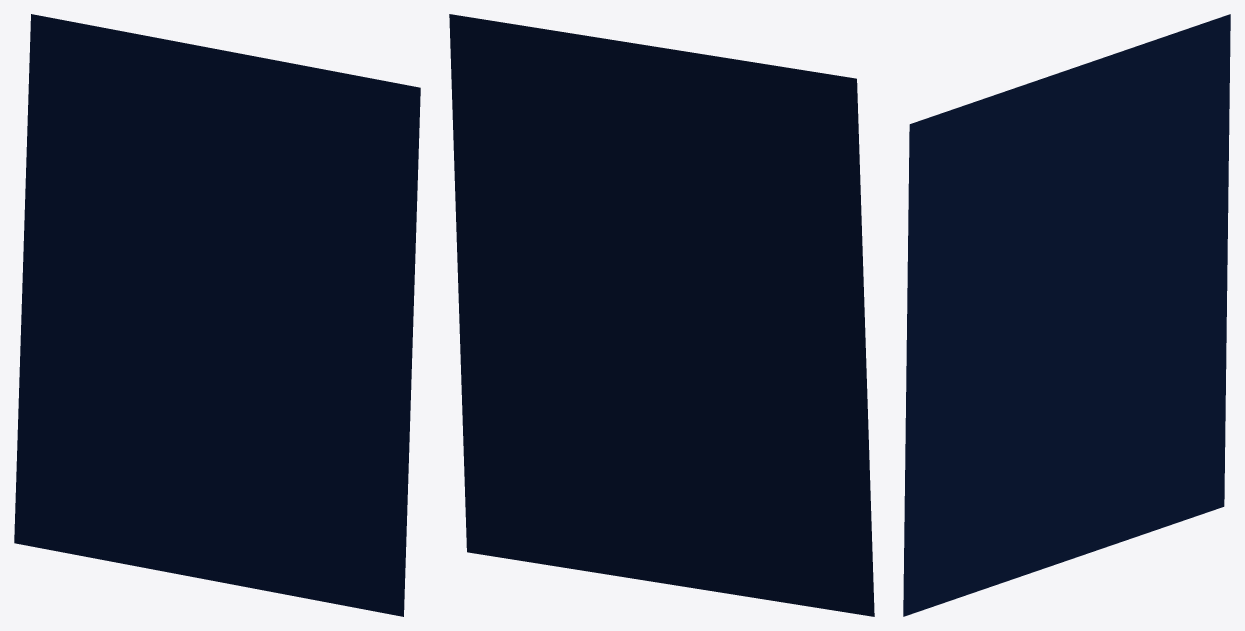
The picture shows the model from 3 angles, left to right: view 1: azimuth 30°, elevation 25°; view 2: azimuth 210°, elevation 25°; view 3: azimuth 270°, elevation 25°; orthographic projection. The views are drawn at different scales.
Visible parts, largest first — view 1: Cube.602; view 2: Cube.602; view 3: Cube.602.
Boxes of the visible parts, box(x1,y1,x2,y2) form: Cube.602: box(14, 14, 420, 616); Cube.602: box(449, 14, 874, 616); Cube.602: box(903, 14, 1230, 616).
Size of the model in its own units: 99.17 by 206 by 120.
